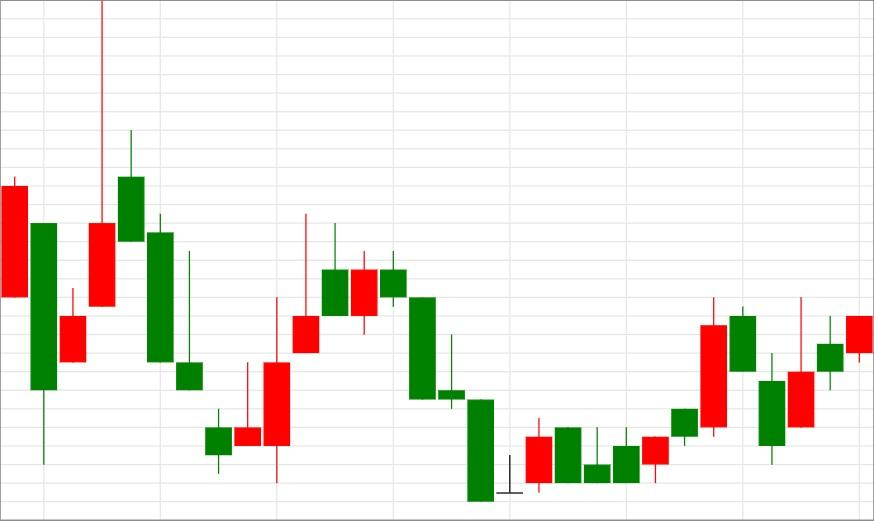shooting_star_fall: (205, 214, 320, 483)
three_black_crows_fall: (30, 0, 204, 464)
